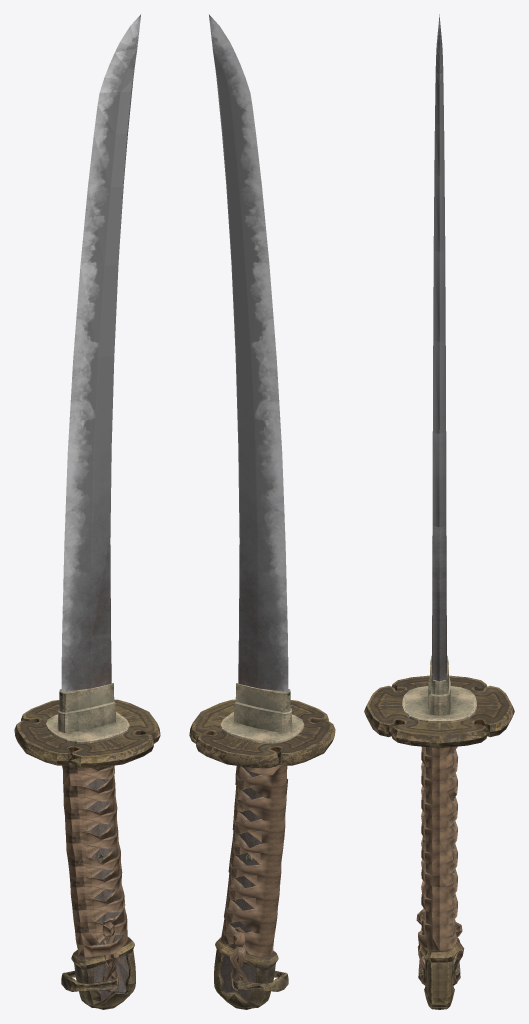
The model's file is cler.glb.
3 views of the same model, side by side, from view 1: azimuth 30°, elevation 25°; view 2: azimuth 150°, elevation 25°; view 3: azimuth 270°, elevation 25° (orthographic). The views are drawn at different scales.
Visible parts, largest first — view 1: WP_A_0120; view 2: WP_A_0120; view 3: WP_A_0120.
Boxes of the visible parts, x1,y1,x2,y2 form: WP_A_0120: (14,14,160,1009); WP_A_0120: (189,14,335,1009); WP_A_0120: (364,14,514,1009).
Size of the model in its own units: 8.88 by 65.64 by 8.88.
Materials: 1 (1 with a texture image).
